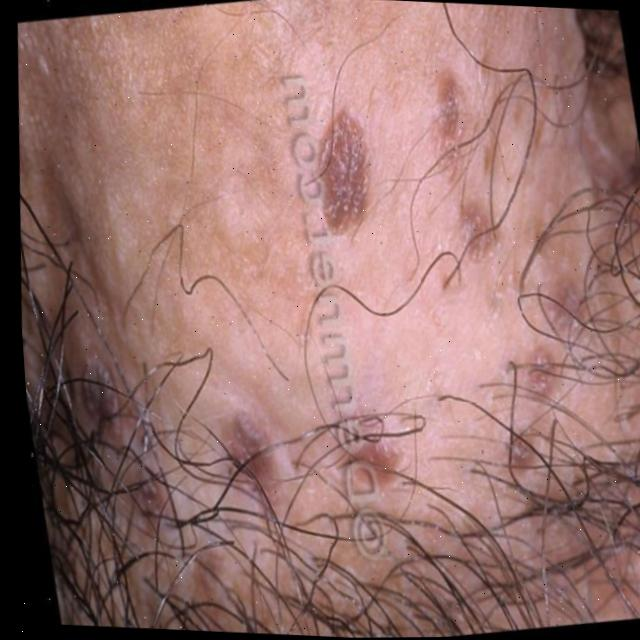Shingles: (413, 67, 606, 467), (215, 412, 421, 491), (303, 115, 369, 241)
